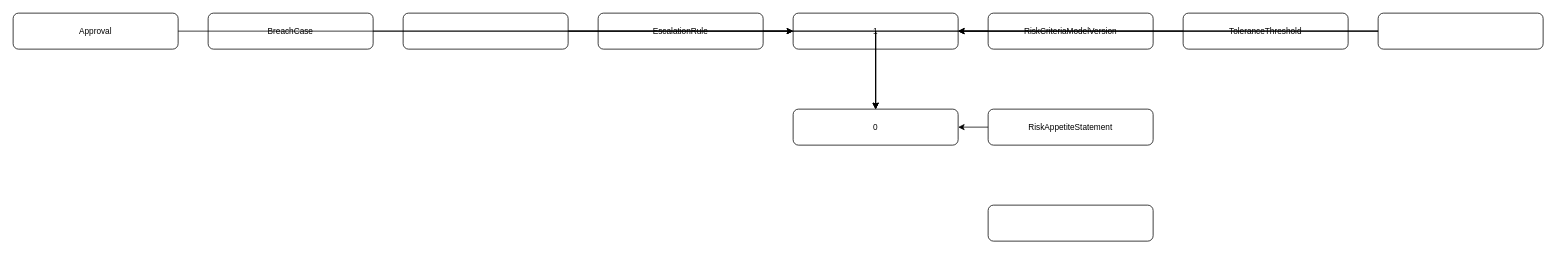
The diagram is 1556 pixels wide and 254 high, and some of its shapes have lost their labels. The shapes that lost their labels are listed below. From the top down, each one's box as (x1, y1, x2, y2) in pixels, then its label:
(402, 12, 568, 49): DecisionGate
(1377, 12, 1543, 49): WaiverException
(987, 204, 1153, 241): Risk
